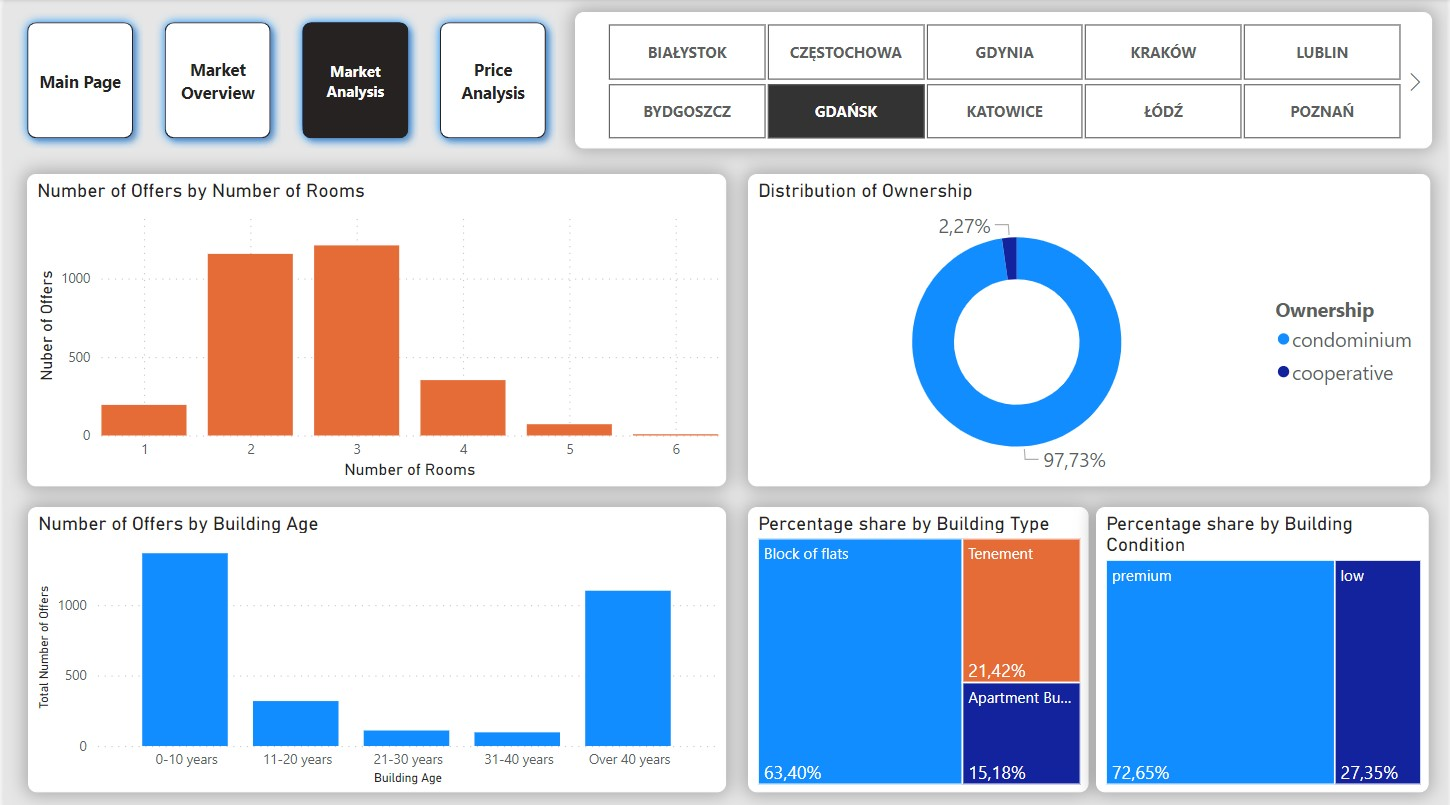

What the dashboard file says about the page in this screenshot:
{"tool":"powerbi","page":{"name":"Market Analysis","canvas":[1280,720],"ordinal":2},"visuals":[{"type":"columnChart","title":"Number of Offers by Building Age","fields":{"Category":["Apartments_data.Age Bins"],"Y":["_Measures.Nuber of offers"]},"box":[13.3,414.9,617.5,288.2],"z":0},{"type":"treemap","title":"Percentage share by Building Type","fields":{"Values":["_Measures.Nuber of offers"],"Group":["DIM_Building_types.building_type"]},"box":[648.8,414.9,313.6,288.2],"z":1000},{"type":"donutChart","title":"Distribution of Ownership","fields":{"Y":["_Measures.Nuber of offers"],"Category":["DIM_Ownership.ownership"]},"box":[648.8,145.9,615.1,259.3],"z":2000},{"type":"treemap","title":"Percentage share by Building Condition","fields":{"Values":["_Measures.Nuber of offers"],"Group":["FACT_Apartments_data.building_condition"]},"box":[968.4,414.9,295.5,288.2],"z":3000},{"type":"slicer","fields":{"Values":["DIM_City.city"]},"box":[506.5,10.9,759.8,121.8],"z":4000},{"type":"pageNavigator","box":[11.2,11.2,481.2,121.2],"z":5000},{"type":"columnChart","title":"Average Price by Building Age","fields":{"Category":["Apartments_data.Age Bins","FACT_Apartments_data.Age of Building"],"Y":["_Measures.Avg Price"]},"box":[13.3,145.9,617.5,259.3],"z":6000}]}

Visuals, with their boxes in screenshot pixels (x1, y1, x2, y2), scaled from the page's 1280x720 canvas onto the 1450x805 screenshot:
"Number of Offers by Building Age" columnChart: 15,464,715,786
"Percentage share by Building Type" treemap: 735,464,1090,786
"Distribution of Ownership" donutChart: 735,163,1432,453
"Percentage share by Building Condition" treemap: 1097,464,1432,786
slicer - DIM_City.city: 574,12,1434,148
pageNavigator: 13,13,558,148
"Average Price by Building Age" columnChart: 15,163,715,453
